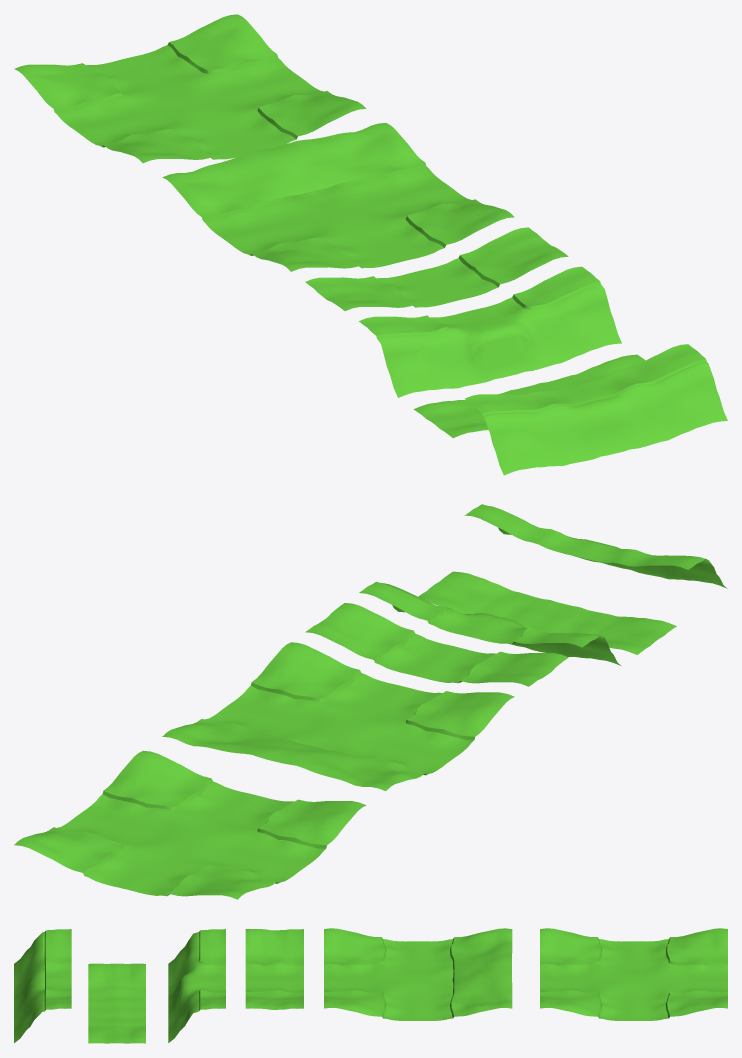
Rendered from Turf.fbx.
3 views of the same model, one above another, from view 1: azimuth 30°, elevation 25°; view 2: azimuth 150°, elevation 25°; view 3: azimuth 270°, elevation 25° (orthographic). The views are drawn at different scales.
Parts seen in each view (by area): view 1: TurfIntersectionT, TurfIntersectionCross, TurfTransitionSide, TurfTransition, Turf, TurffUnderwater; view 2: TurfIntersectionCross, TurfIntersectionT, Turf, TurffUnderwater, TurfTransition, TurfTransitionSide; view 3: TurfIntersectionT, TurfIntersectionCross, Turf, TurffUnderwater, TurfTransitionSide, TurfTransition.
Part boxes in pixels (x1,y1,x2,y2): TurfIntersectionT: (162,123,514,271); TurfIntersectionCross: (14,14,366,163); TurfTransitionSide: (465,344,727,475); TurfTransition: (359,266,621,397); Turf: (305,227,568,310); TurffUnderwater: (413,354,645,437); TurfIntersectionCross: (14,750,366,899); TurfIntersectionT: (162,642,514,791); Turf: (305,603,568,686); TurffUnderwater: (418,571,676,654); TurfTransition: (359,581,620,665); TurfTransitionSide: (464,504,727,588); TurfIntersectionT: (324,928,512,1020); TurfIntersectionCross: (540,928,727,1020); Turf: (245,929,303,1009); TurffUnderwater: (88,963,145,1043); TurfTransitionSide: (14,929,71,1042); TurfTransition: (168,929,225,1042).
Bounding box in the file's own units: 8304 × 2038 × 31461.
